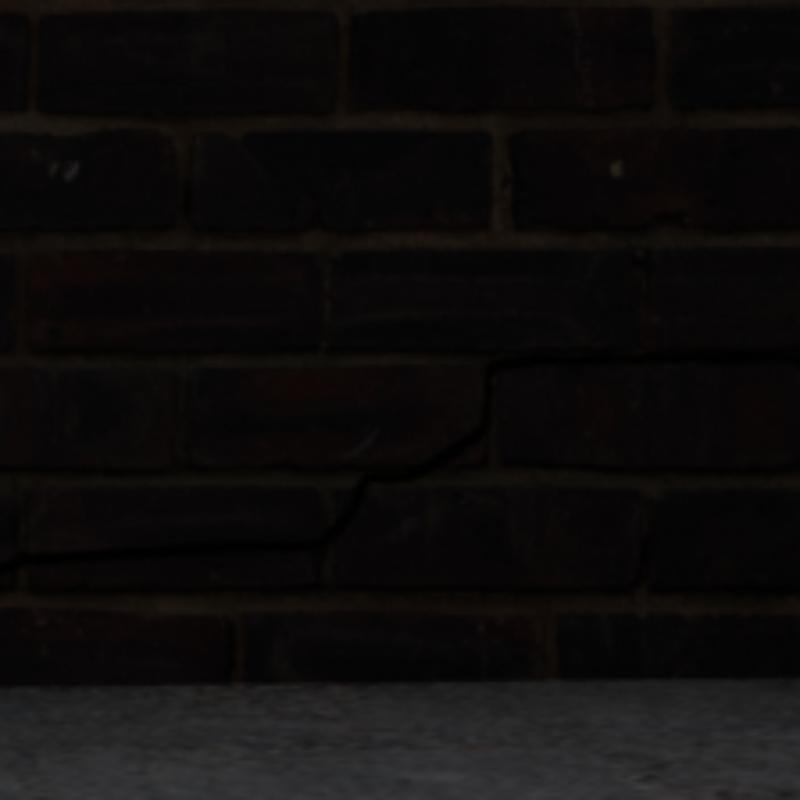pothole: (0, 354, 796, 571)
